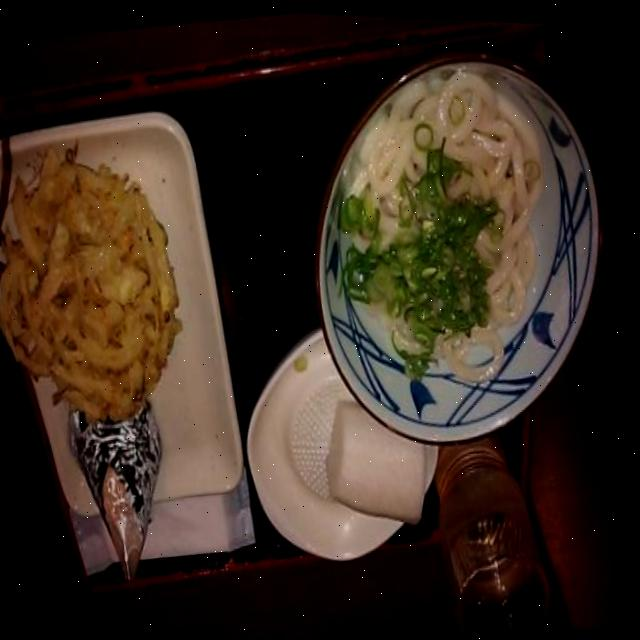米饭主食: (67, 401, 198, 591)
蔬菜料理: (0, 124, 228, 429)
面条主食: (270, 14, 640, 474)
